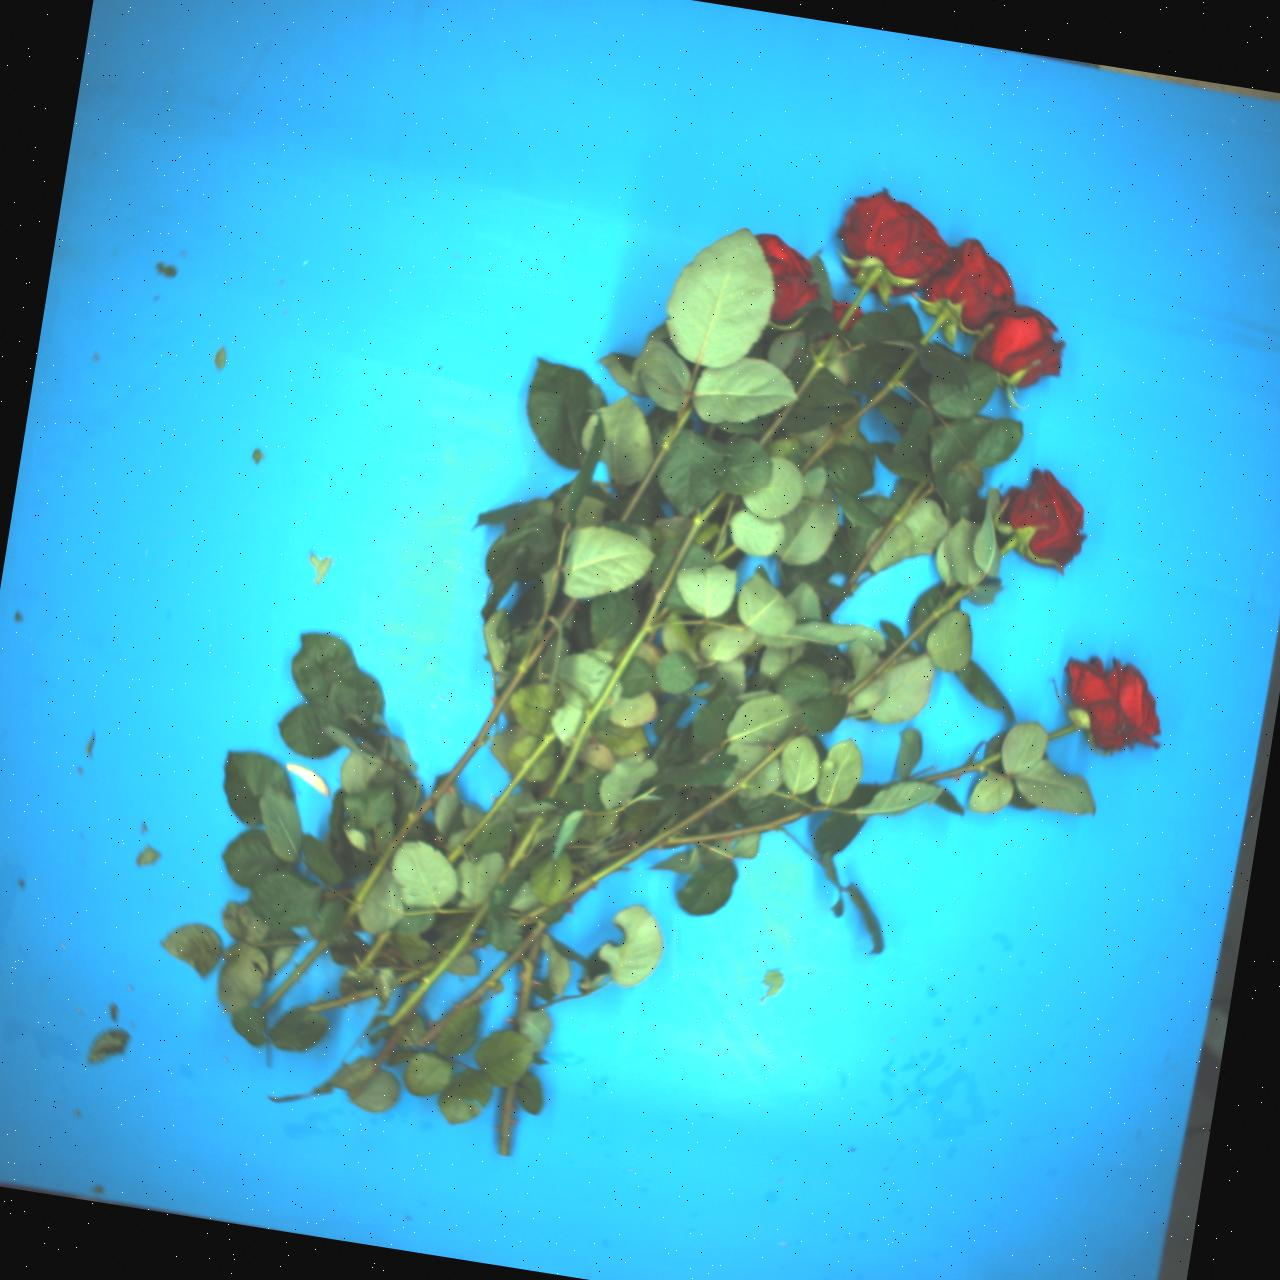Stem: (335, 625, 565, 921), (540, 485, 727, 802), (556, 717, 811, 915), (415, 914, 550, 1053), (795, 349, 922, 476), (844, 583, 969, 703), (386, 897, 497, 1032), (459, 730, 559, 850), (842, 478, 928, 592), (618, 403, 696, 524), (648, 805, 824, 855), (258, 937, 329, 1015), (495, 806, 552, 887), (907, 751, 1003, 788), (836, 266, 883, 329), (794, 334, 838, 399), (512, 938, 539, 1034), (390, 952, 452, 988), (372, 1013, 408, 1071), (307, 986, 376, 1016), (757, 399, 796, 448), (355, 928, 390, 978), (919, 308, 953, 349), (497, 1084, 516, 1157), (513, 900, 549, 930), (597, 844, 632, 866), (556, 594, 580, 624), (455, 935, 486, 955), (1047, 723, 1078, 741), (998, 536, 1020, 557), (825, 593, 846, 614), (448, 849, 464, 864), (335, 888, 354, 899), (321, 891, 339, 901), (571, 862, 583, 872)
flower: (831, 178, 965, 293), (989, 459, 1108, 583), (965, 291, 1082, 407), (914, 233, 1029, 347), (1063, 648, 1163, 758), (743, 222, 826, 327), (823, 292, 865, 334)
